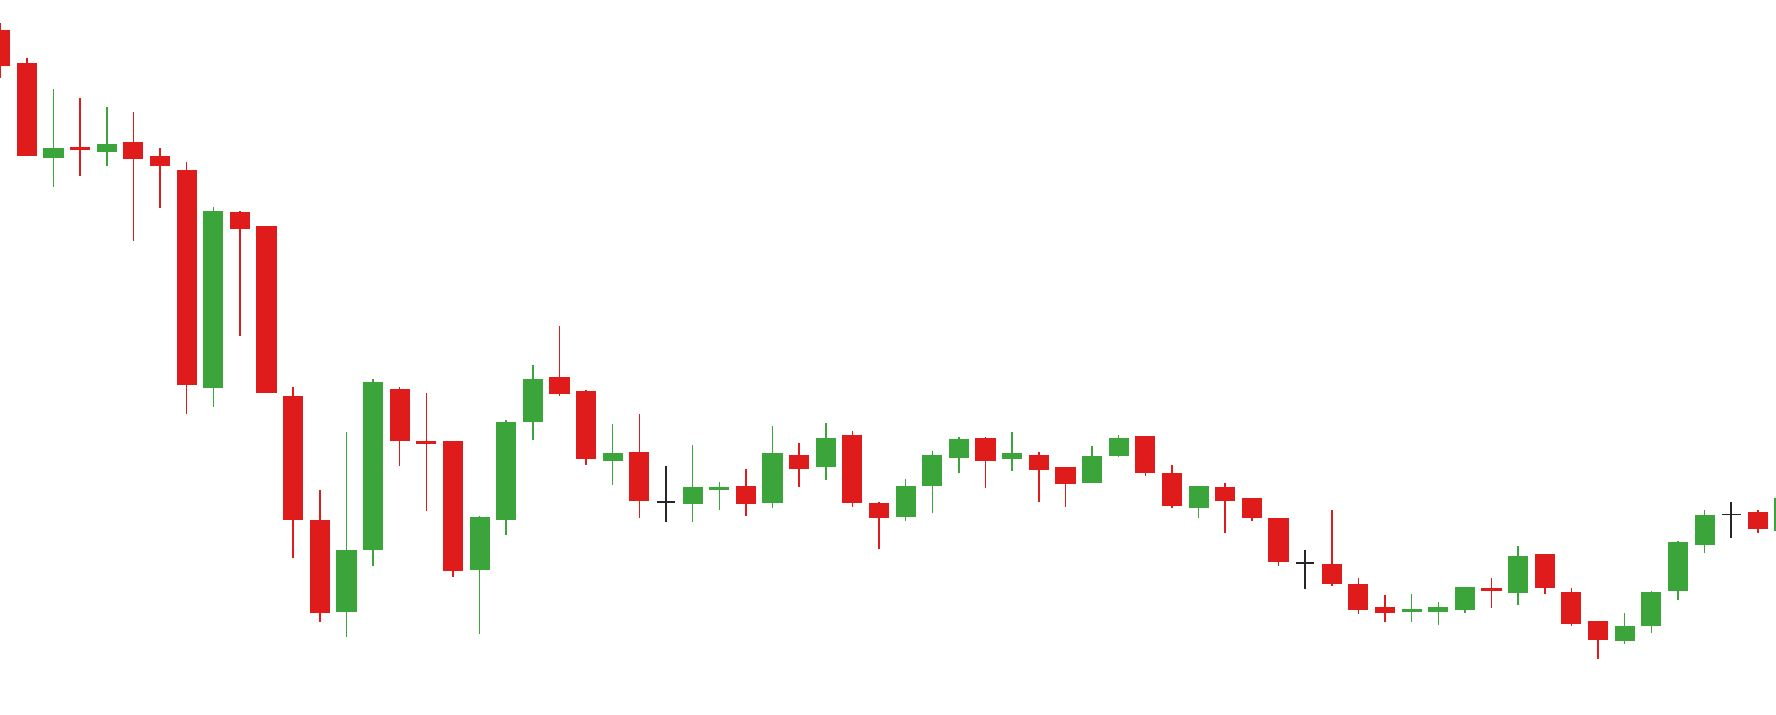buy: (1403, 569, 1663, 663)
sell: (358, 322, 573, 504)
